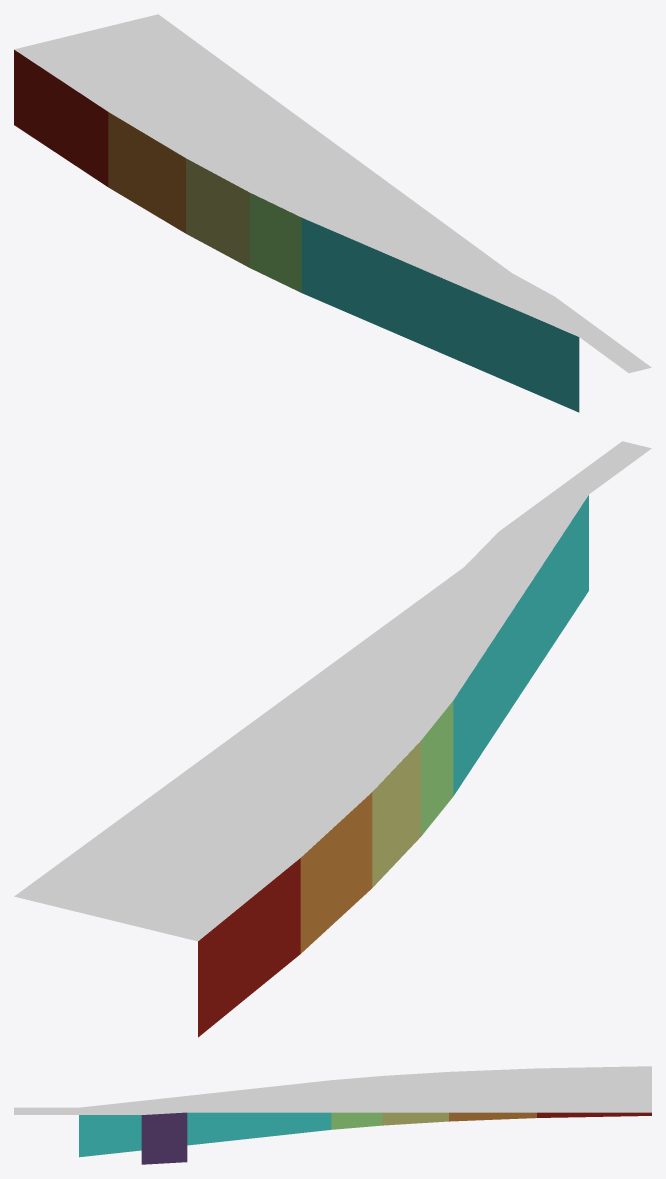
The model's file is scramjet_n5_m2.glb.
The picture shows the model from 3 angles, top to bottom: view 1: azimuth 30°, elevation 25°; view 2: azimuth 150°, elevation 25°; view 3: azimuth 270°, elevation 25°; orthographic projection. The views are drawn at different scales.
Visible parts, largest first — view 1: Renderer Node; view 2: Renderer Node; view 3: Renderer Node.
Part boxes in pixels (<box>): Renderer Node: <box>14,14,651,412</box>; Renderer Node: <box>14,441,651,1037</box>; Renderer Node: <box>14,1066,651,1164</box>.
Size of the model in its own units: 1.06 by 0.5005 by 5.83.
